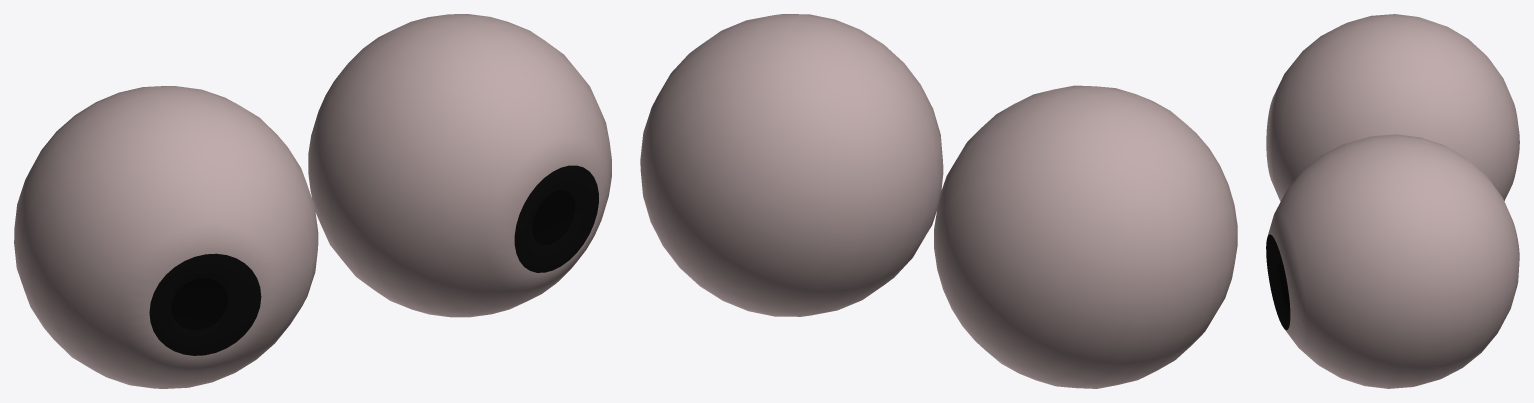
The model's file is smilecreepeyes.fbx.
3 renders of one model, left to right at view 1: azimuth 30°, elevation 25°; view 2: azimuth 150°, elevation 25°; view 3: azimuth 270°, elevation 25°, orthographic. The views are drawn at different scales.
Parts seen in each view (by area): view 1: Sphere001, Sphere002; view 2: Sphere001, Sphere002; view 3: Sphere002, Sphere001.
Part boxes in pixels (x1,y1,x2,y2): Sphere001: (14, 86, 318, 388); Sphere002: (308, 14, 611, 317); Sphere001: (934, 85, 1237, 388); Sphere002: (640, 14, 943, 316); Sphere002: (1266, 134, 1519, 388); Sphere001: (1266, 14, 1519, 201).
Bounding box in the file's own units: 15.35 × 7.23 × 7.22.
